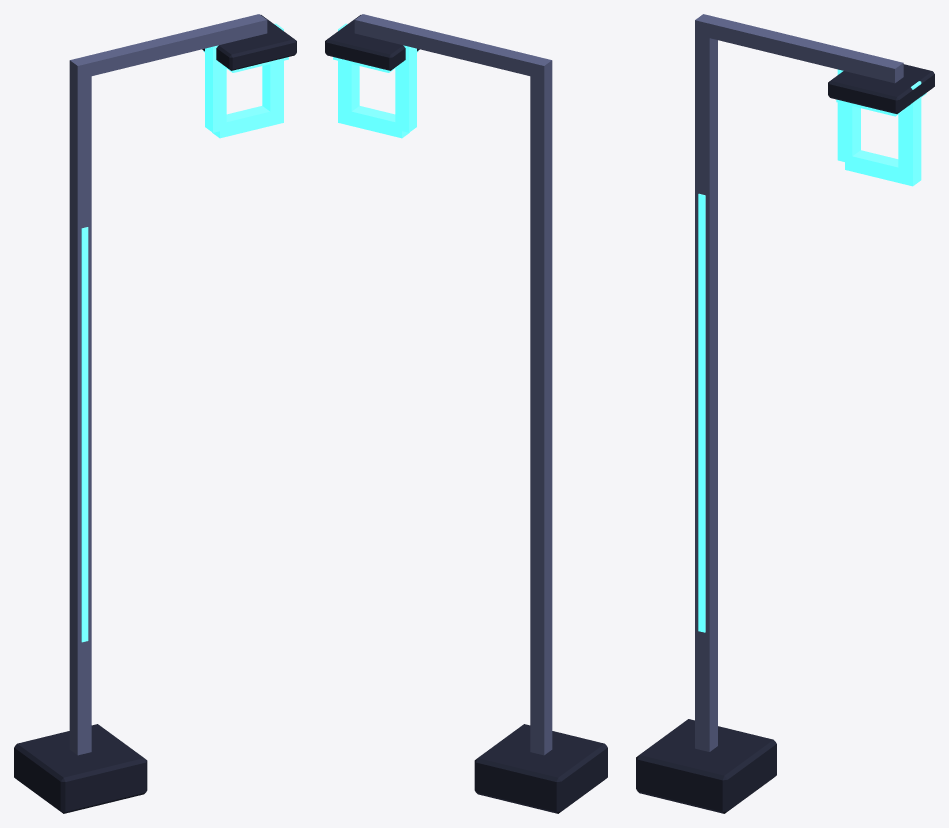
File: neon-street-lamp.glb
3 views of the same model, side by side, from view 1: azimuth 30°, elevation 25°; view 2: azimuth 150°, elevation 25°; view 3: azimuth 330°, elevation 25° (orthographic). The views are drawn at different scales.
Parts seen in each view (by area): view 1: neon_street_lamp; view 2: neon_street_lamp; view 3: neon_street_lamp.
Boxes of the visible parts, x1,y1,x2,y2 form: neon_street_lamp: [14, 14, 296, 813]; neon_street_lamp: [325, 14, 607, 813]; neon_street_lamp: [636, 14, 934, 813].
Size of the model in its own units: 1.4 by 4 by 0.5.
